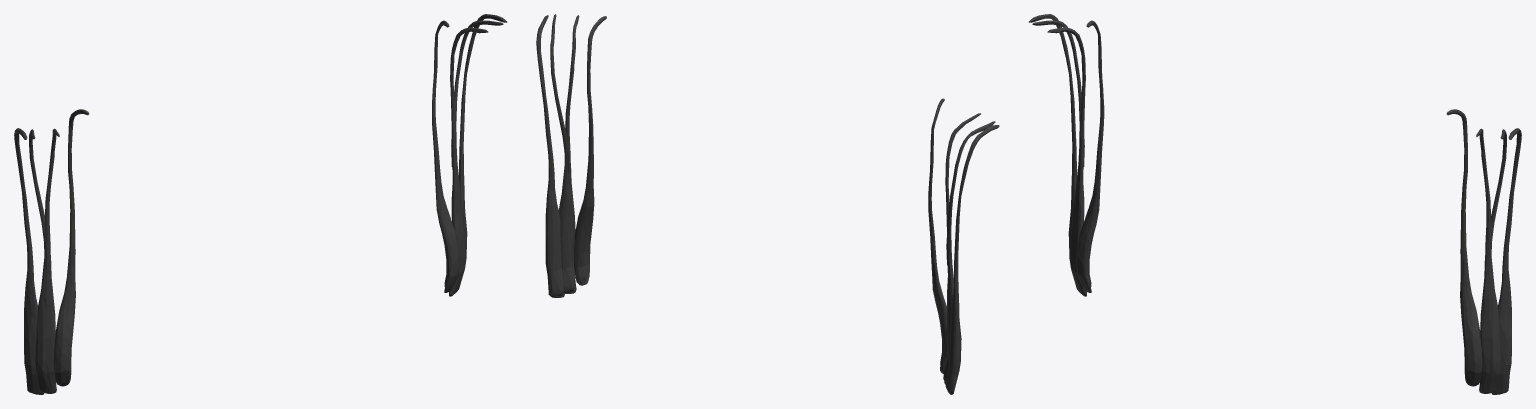
Rendered from m_extensor_digitorum_brevis.glb.
The picture shows the model from 3 angles, left to right: view 1: azimuth 30°, elevation 25°; view 2: azimuth 150°, elevation 25°; view 3: azimuth 330°, elevation 25°; orthographic projection. The views are drawn at different scales.
Parts seen in each view (by area): view 1: m_extensor_digitorum_brevis; view 2: m_extensor_digitorum_brevis; view 3: m_extensor_digitorum_brevis.
Part boxes in pixels (x1,y1,x2,y2): m_extensor_digitorum_brevis: (14, 14, 507, 394); m_extensor_digitorum_brevis: (536, 14, 999, 394); m_extensor_digitorum_brevis: (1028, 14, 1521, 394).
Bounding box in the file's own units: 0.0603 × 0.0348 × 0.0068.
Materials: 1 (1 with a texture image).
